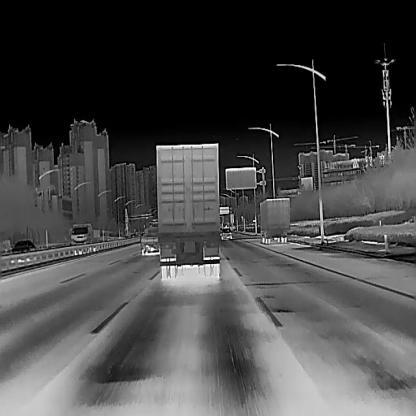car: (155, 142, 219, 277), (260, 197, 290, 243), (70, 223, 100, 243), (140, 226, 160, 254), (9, 240, 36, 254), (220, 227, 233, 239)
